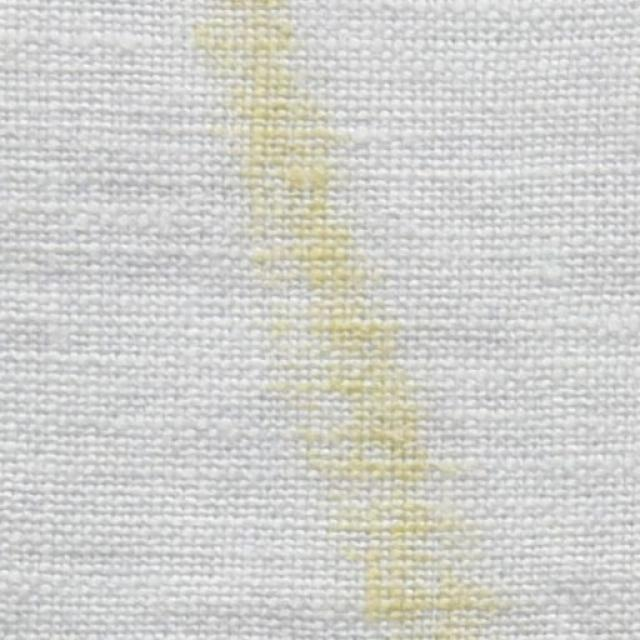Stain: (196, 0, 486, 639)
